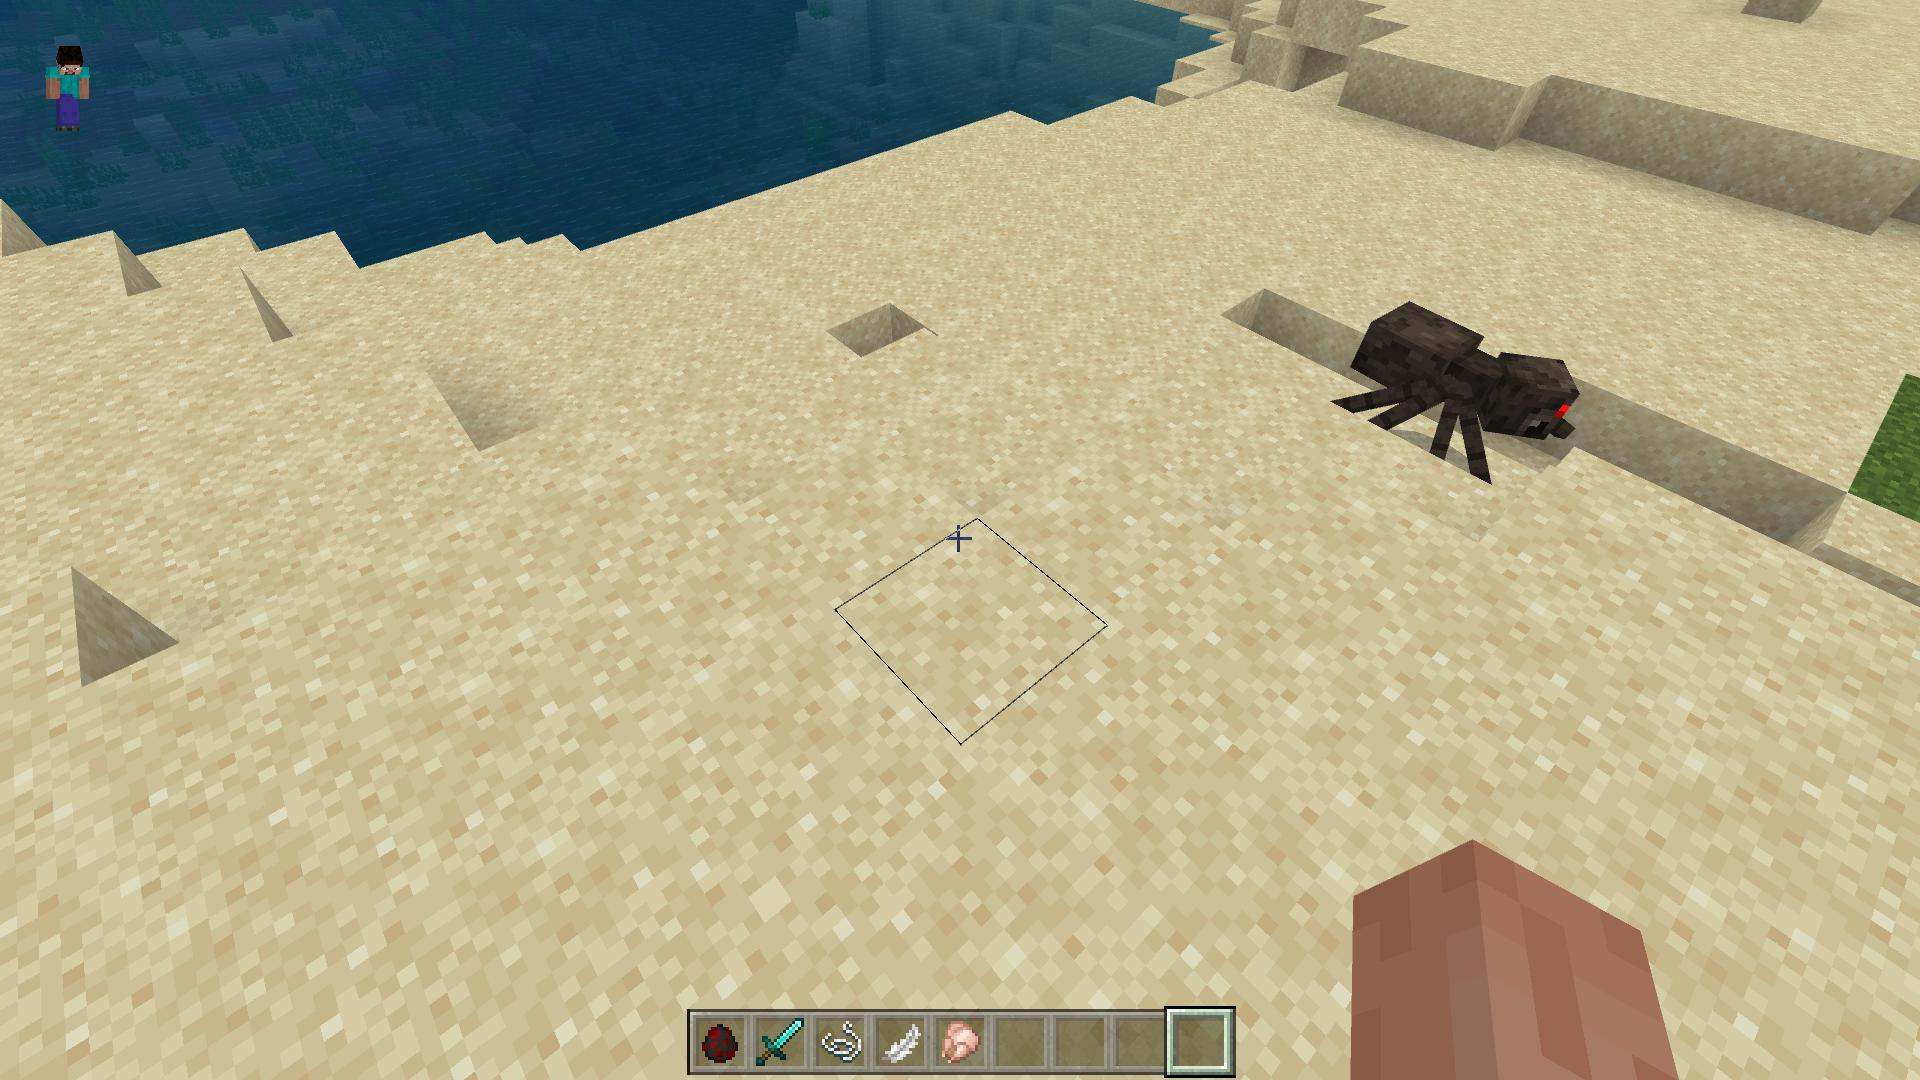spider: (1331, 298, 1580, 485)
